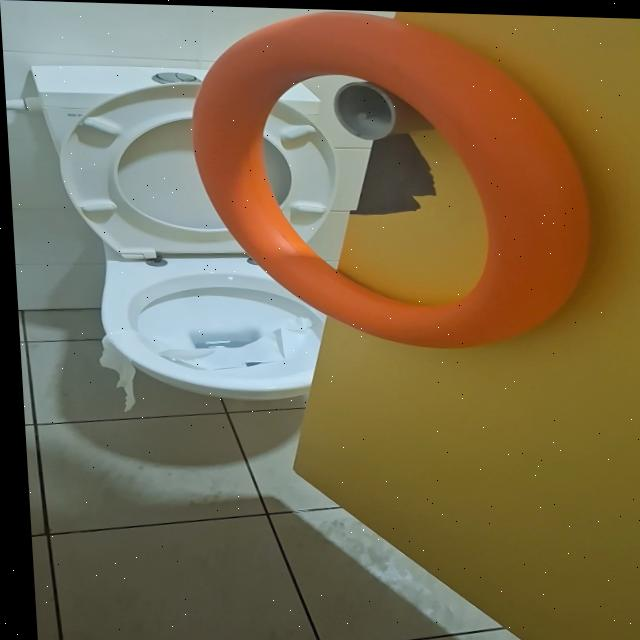note: (183, 6, 596, 351)
